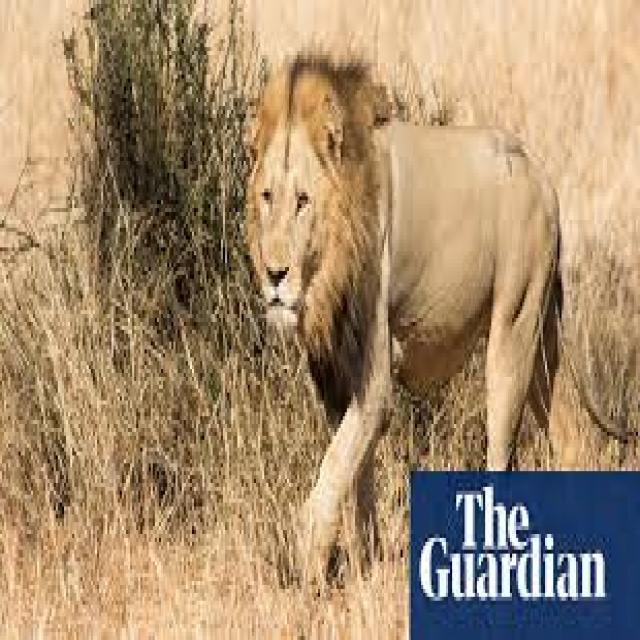Lion: (242, 57, 570, 571)
